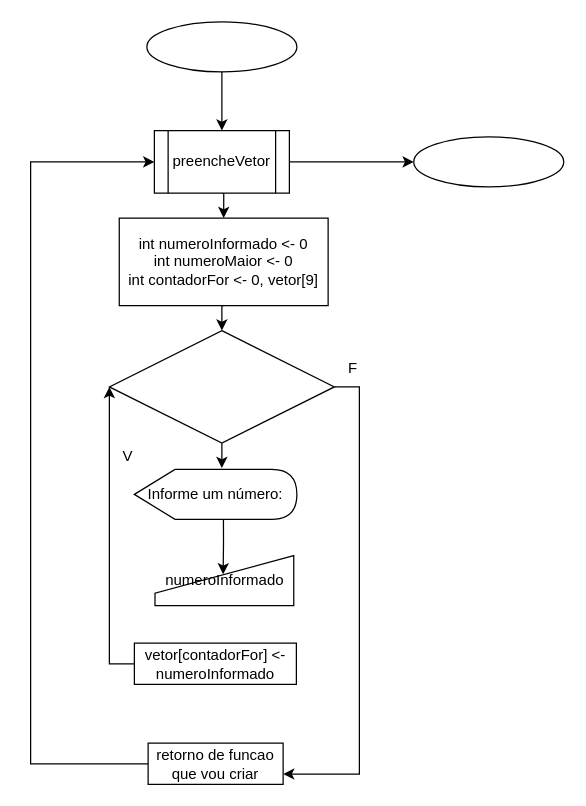
Image size: 586x806. Some labels were removed from this diagram. The shapes that lost their labels are listed below. From the top down, each one's centre as x and y in pixels, then its label:
pixel 221 46: Início
pixel 488 161: Fim
pixel 221 386: contadorFor <- 0; contadorFor <= 9; contadorFor++
